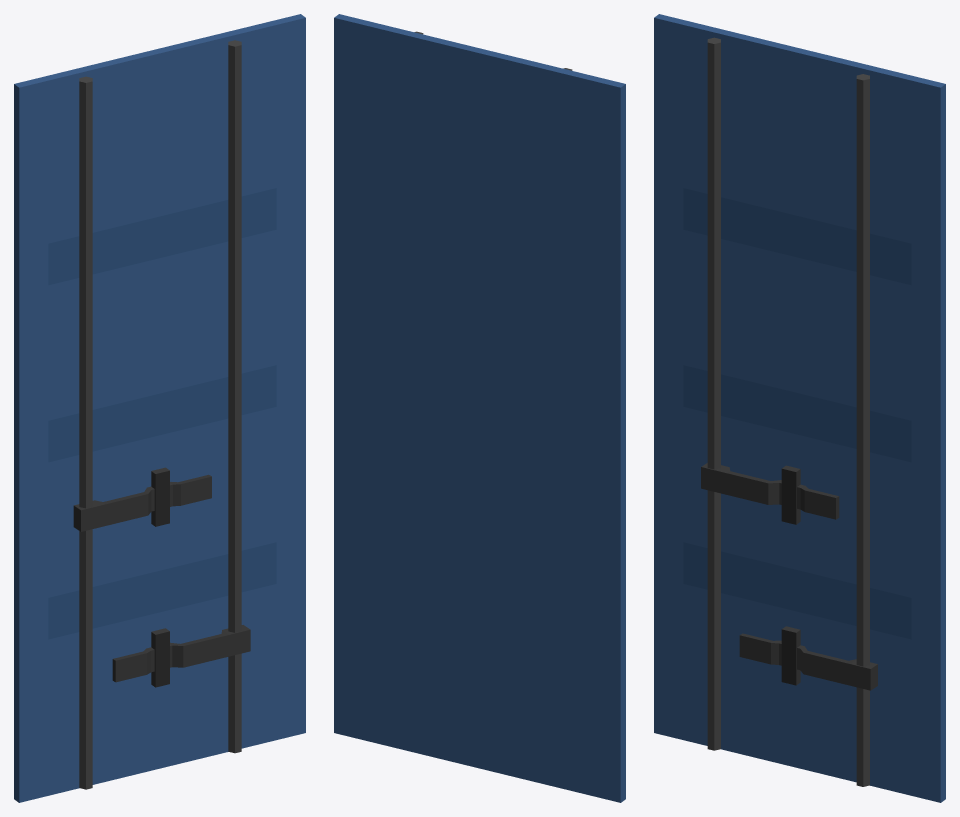
The model's file is SM_IndustrialProps_ShippingContainer_03_Door_02.fbx.
3 renders of one model, left to right at view 1: azimuth 30°, elevation 25°; view 2: azimuth 150°, elevation 25°; view 3: azimuth 330°, elevation 25°, orthographic.
Visible parts, largest first — view 1: SM_IndustrialProps_ShippingContainer_03_Door_02; view 2: SM_IndustrialProps_ShippingContainer_03_Door_02; view 3: SM_IndustrialProps_ShippingContainer_03_Door_02.
Boxes of the visible parts, bbox=[...] form: SM_IndustrialProps_ShippingContainer_03_Door_02: bbox=[14, 14, 305, 802]; SM_IndustrialProps_ShippingContainer_03_Door_02: bbox=[334, 14, 625, 802]; SM_IndustrialProps_ShippingContainer_03_Door_02: bbox=[654, 14, 945, 802].
Size of the model in its own units: 1.09 by 2.6 by 0.0825.
